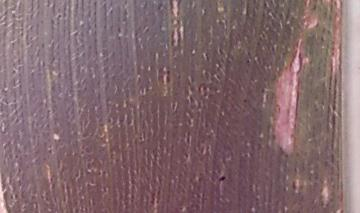tarspot: (216, 173, 228, 183)
